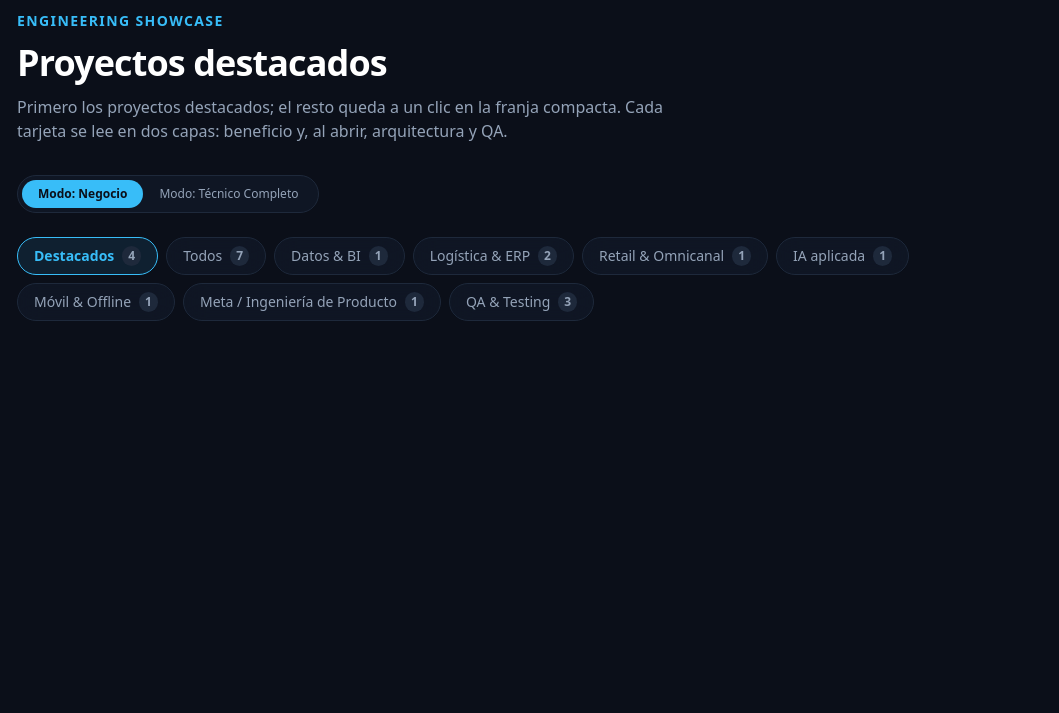
Test case: Projects › en la vista Todos cada tarjeta mantiene su Capa 1 (Problema, Solución y contexto)
This screenshot has width=1059, height=713.
Click the button "Todos 7". click: point(216, 256)
box: [166,237,266,275]
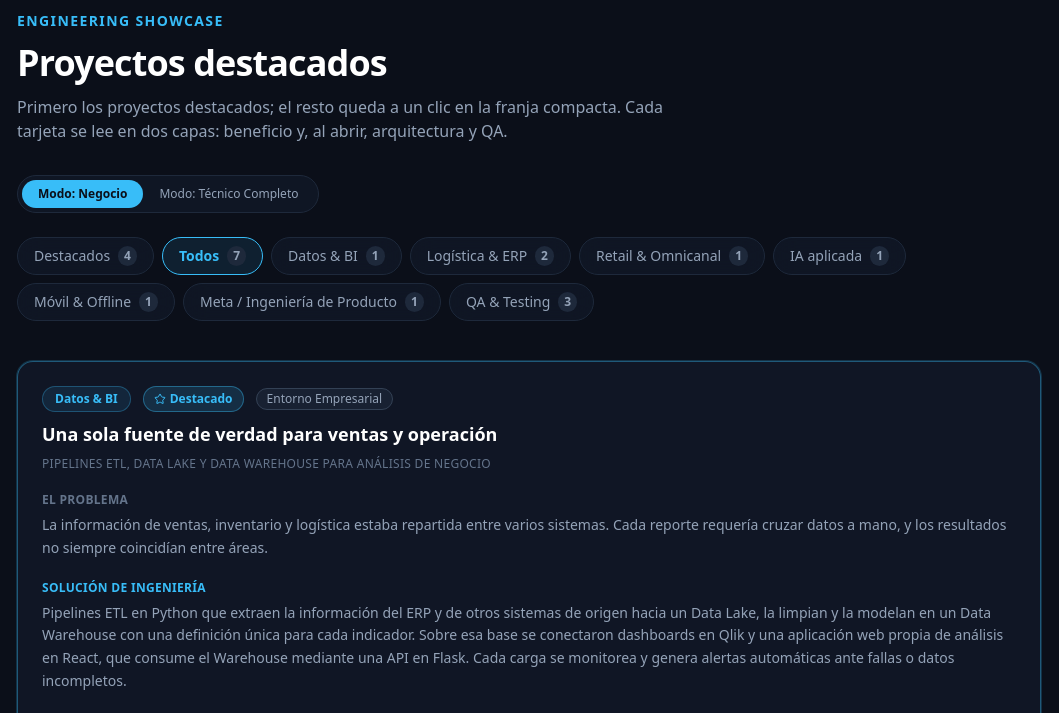
Now the text "El Problema" is shown 7 times
Now the text "Solución de Ingeniería" is shown 7 times
